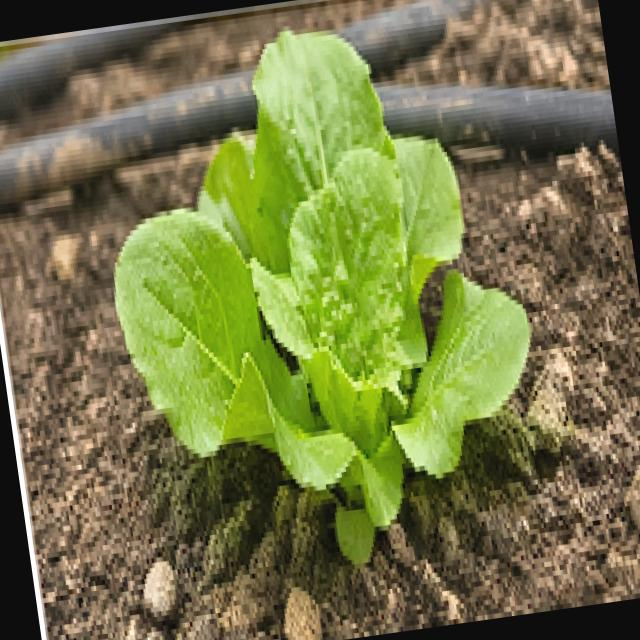inmadura: (115, 31, 529, 559)
